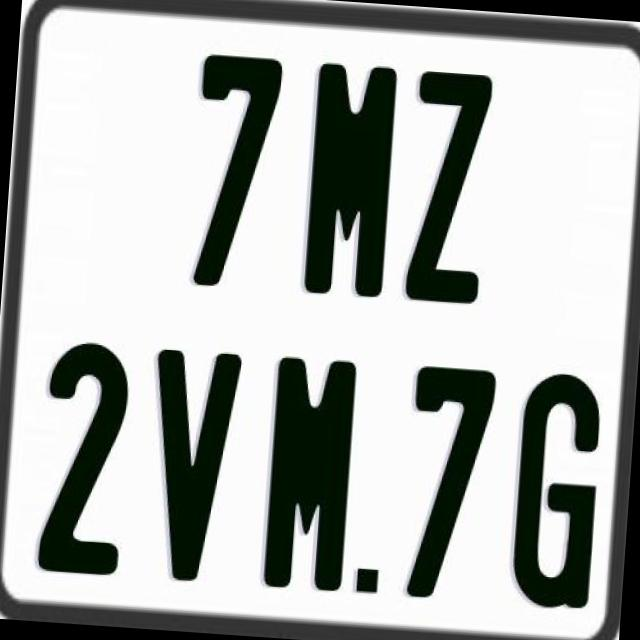2: (34, 338, 137, 574)
7: (185, 52, 287, 288), (398, 362, 496, 598)
G: (506, 368, 604, 615)
M: (298, 56, 394, 302), (261, 356, 357, 598)
V: (139, 346, 239, 586)
Z: (401, 70, 495, 309)
